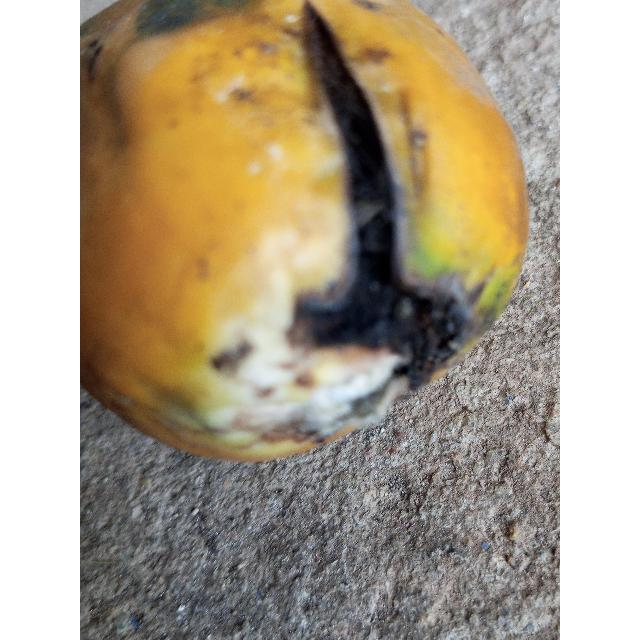damaged: (80, 0, 530, 466)
